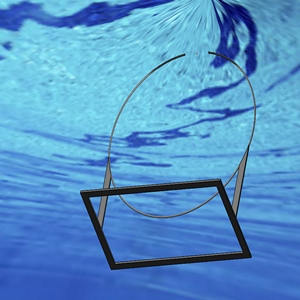circle: (79, 50, 257, 268)
